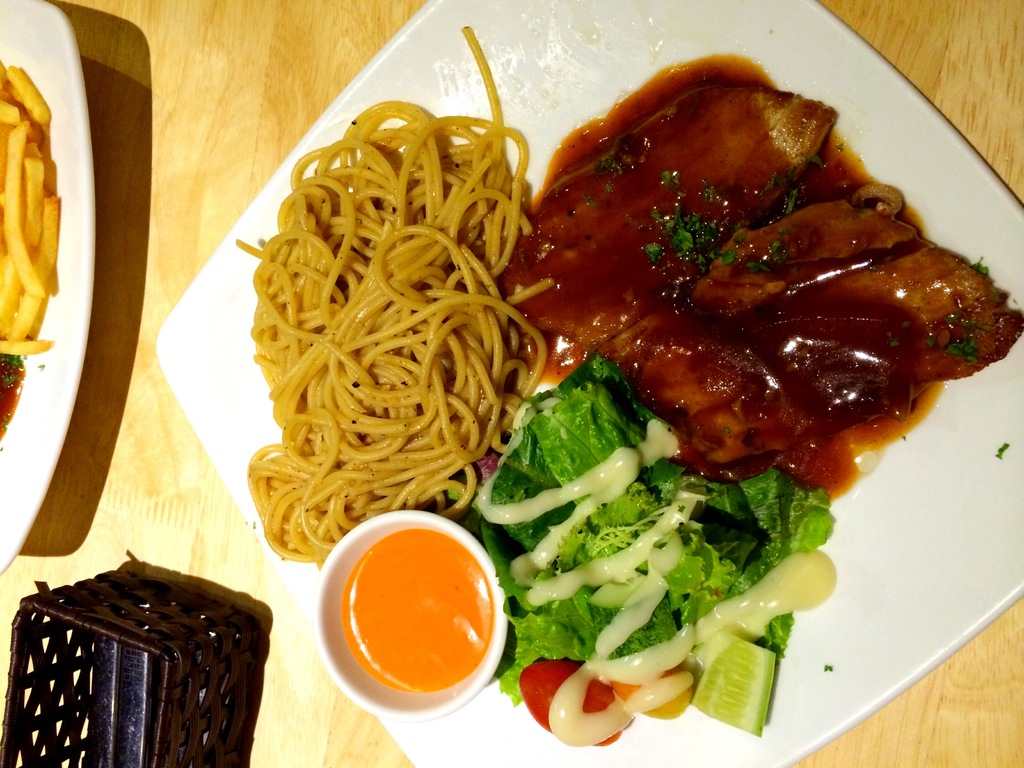French fries: (0, 51, 64, 354)
